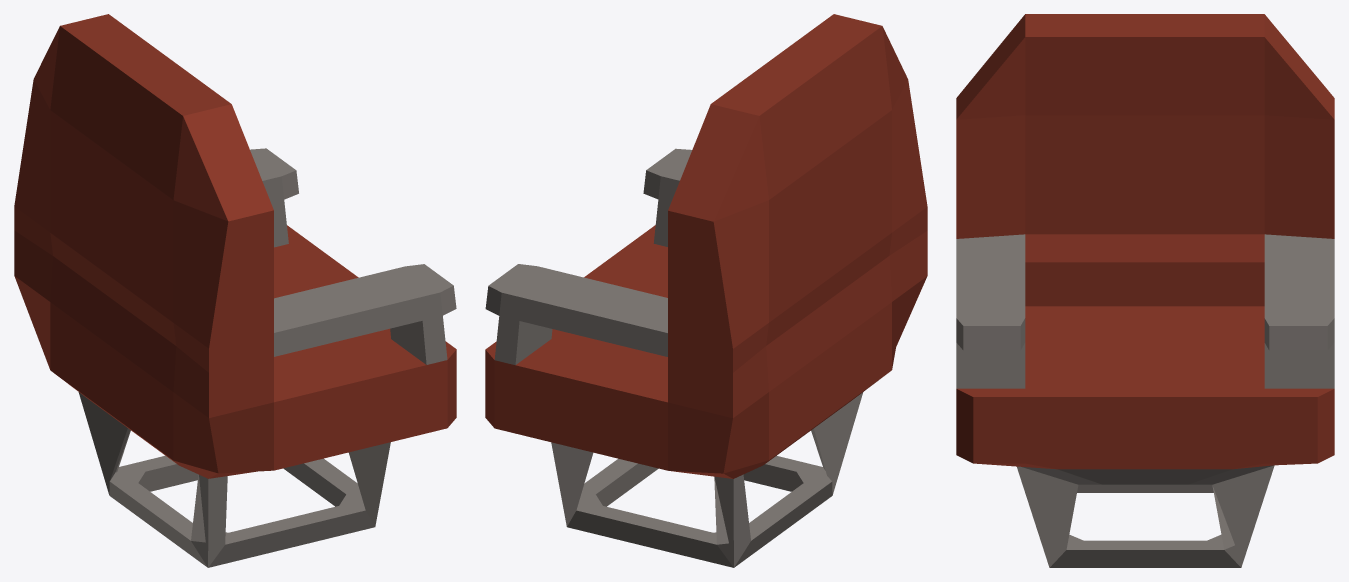
Rendered from StoelRonald.fbx.
3 views of the same model, side by side, from view 1: azimuth 30°, elevation 25°; view 2: azimuth 150°, elevation 25°; view 3: azimuth 270°, elevation 25° (orthographic). The views are drawn at different scales.
Visible parts, largest first — view 1: Cube; view 2: Cube; view 3: Cube.
Boxes of the visible parts, left/top/right/bottom form: Cube: left=14, top=14, right=456, bottom=567; Cube: left=485, top=14, right=927, bottom=567; Cube: left=956, top=14, right=1334, bottom=567.
Size of the model in its own units: 226 by 397 by 298.
